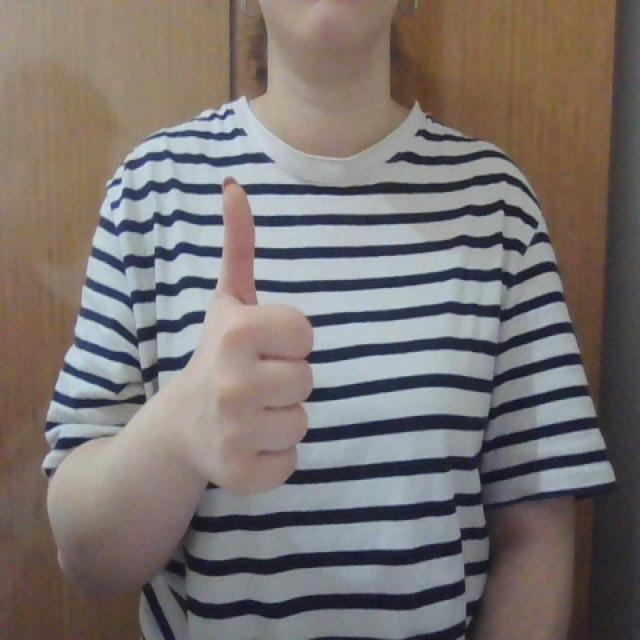Tamam: (177, 174, 312, 512)
